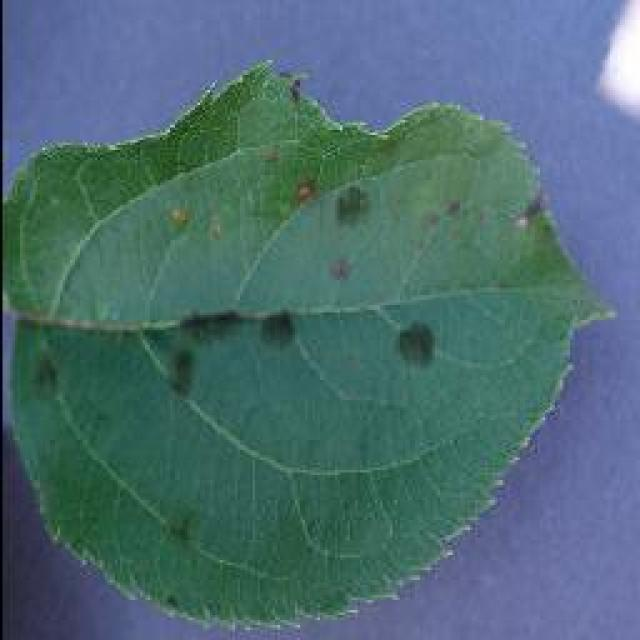apple scab disease: (2, 58, 618, 632)
